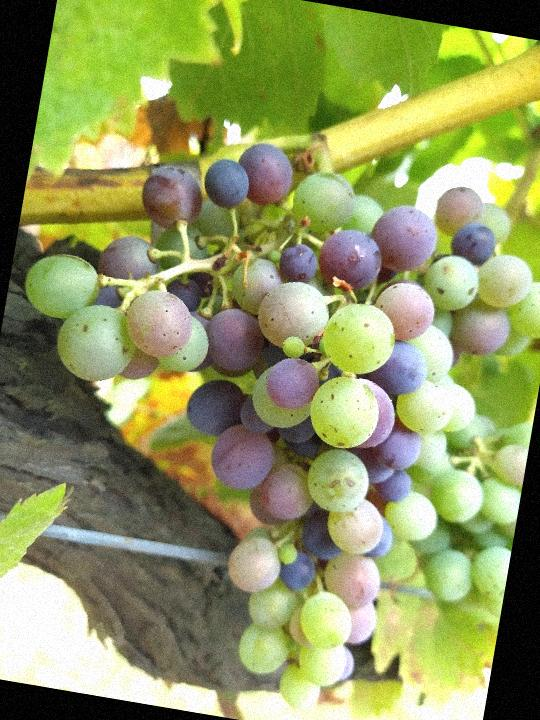grape: (0, 109, 540, 720)
